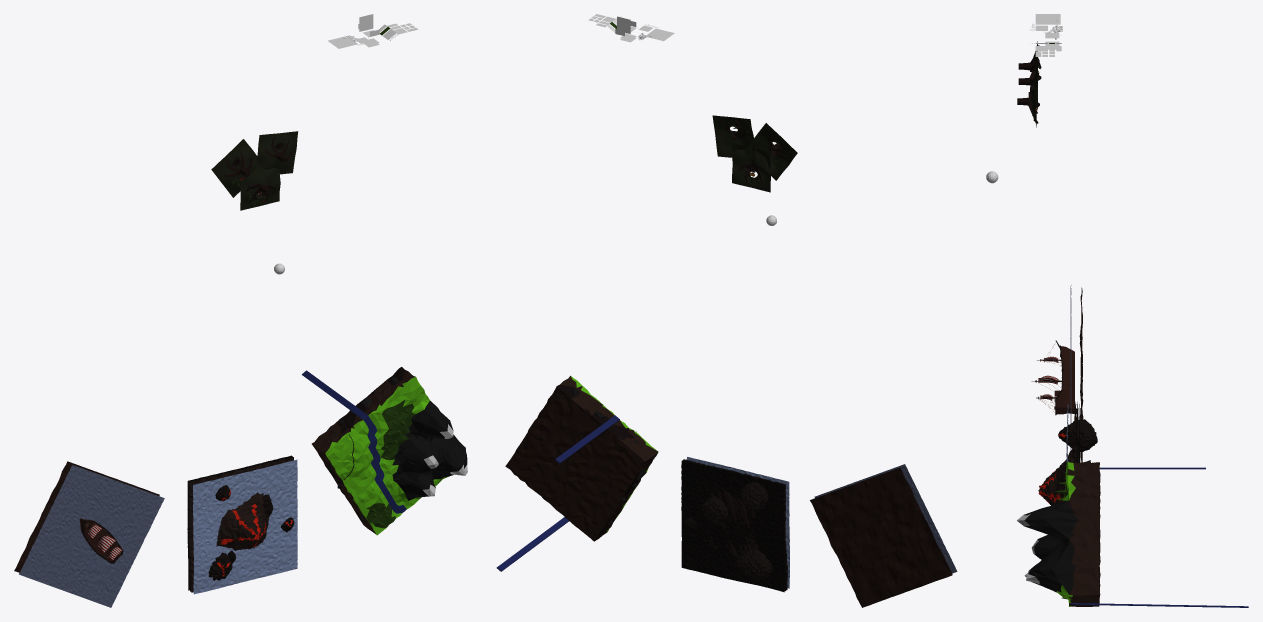
The picture shows the model from 3 angles, left to right: view 1: azimuth 30°, elevation 25°; view 2: azimuth 150°, elevation 25°; view 3: azimuth 270°, elevation 25°; orthographic projection. The views are drawn at different scales.
Parts seen in each view (by area): view 1: i_green_Plane.002, i_ship_Cube, i_volcano_Cylinder, i_treasure_Plane; view 2: i_green_Plane.002, i_ship_Cube, i_volcano_Cylinder, i_treasure_Plane; view 3: i_green_Plane.002, i_ship_Cube, i_volcano_Cylinder, i_treasure_Plane.
Boxes of the visible parts, x1,y1,x2,y2 form: i_green_Plane.002: (302, 367, 467, 535); i_ship_Cube: (14, 461, 164, 607); i_volcano_Cylinder: (187, 455, 297, 594); i_treasure_Plane: (211, 131, 298, 210); i_green_Plane.002: (496, 375, 658, 571); i_ship_Cube: (810, 464, 957, 607); i_volcano_Cylinder: (681, 457, 789, 592); i_treasure_Plane: (712, 115, 797, 192); i_green_Plane.002: (1017, 460, 1248, 607); i_ship_Cube: (1031, 285, 1083, 462); i_volcano_Cylinder: (1038, 401, 1097, 505); i_treasure_Plane: (1017, 41, 1041, 127).
Bounding box in the file's own units: 68.68 × 78.88 × 31.55.
